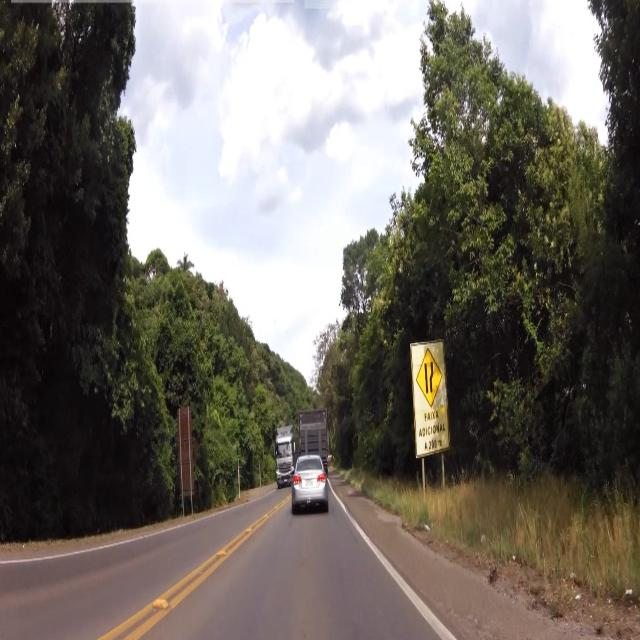A-21e: (417, 355, 445, 408)
